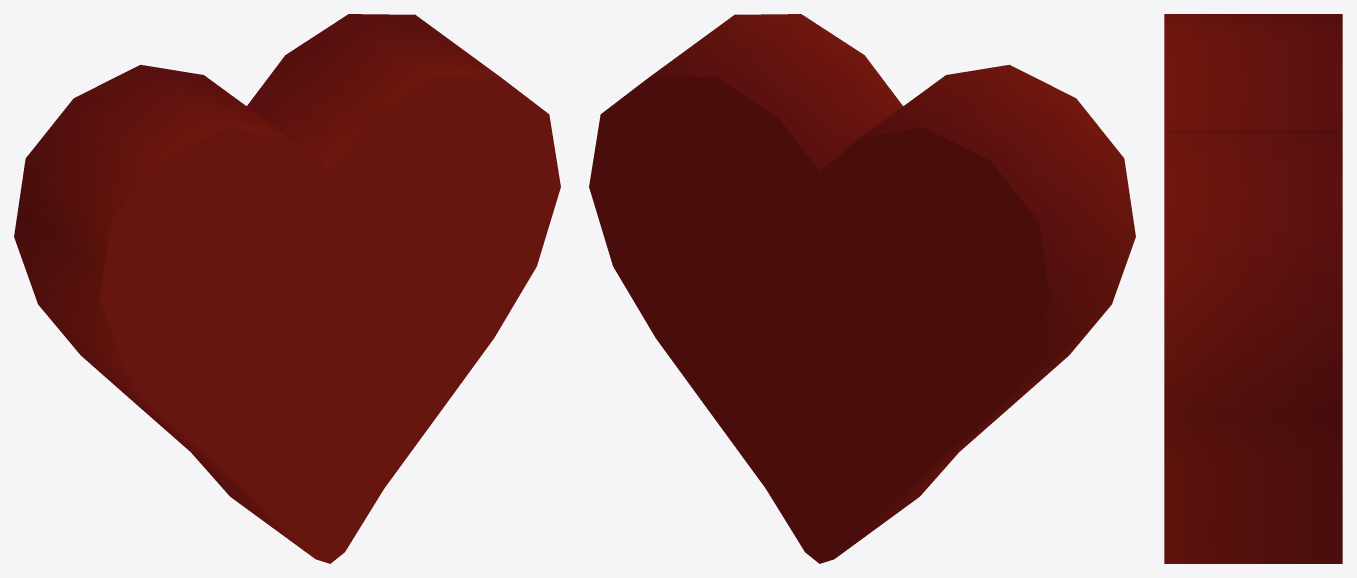
The model's file is heart.glb.
3 views of the same model, side by side, from view 1: azimuth 30°, elevation 25°; view 2: azimuth 150°, elevation 25°; view 3: azimuth 270°, elevation 25° (orthographic). The views are drawn at different scales.
Parts seen in each view (by area): view 1: playing_cards_hearts; view 2: playing_cards_hearts; view 3: playing_cards_hearts.
Part boxes in pixels (bbox=[...]): playing_cards_hearts: bbox=[14, 14, 560, 563]; playing_cards_hearts: bbox=[589, 14, 1135, 563]; playing_cards_hearts: bbox=[1164, 14, 1342, 563].
Bounding box in the file's own units: 0.4351 × 0.4163 × 0.1401.
Materials: 1 (1 with a texture image).
